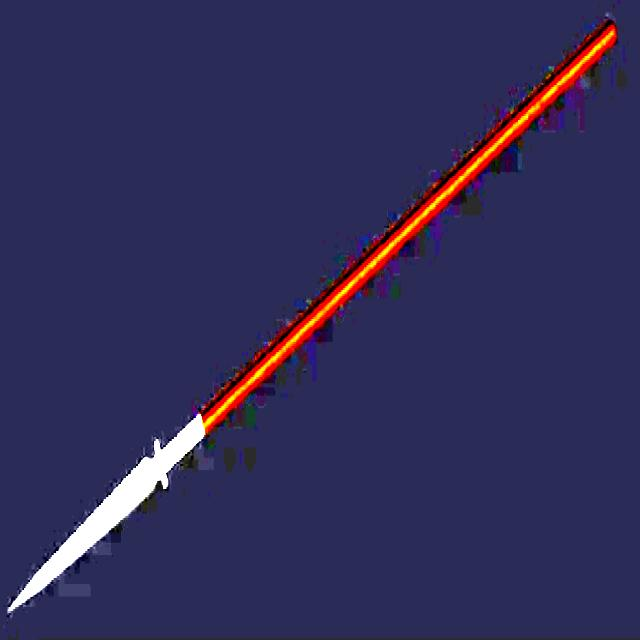spear: (0, 0, 624, 620)
